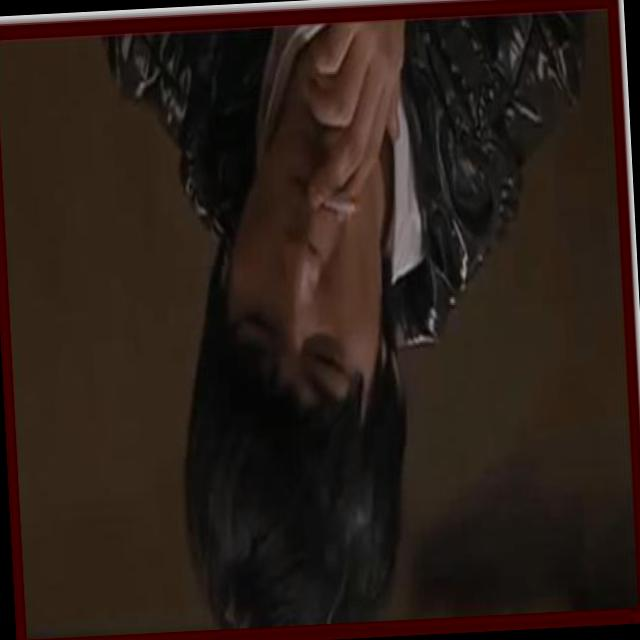cigarette: (319, 183, 362, 220)
